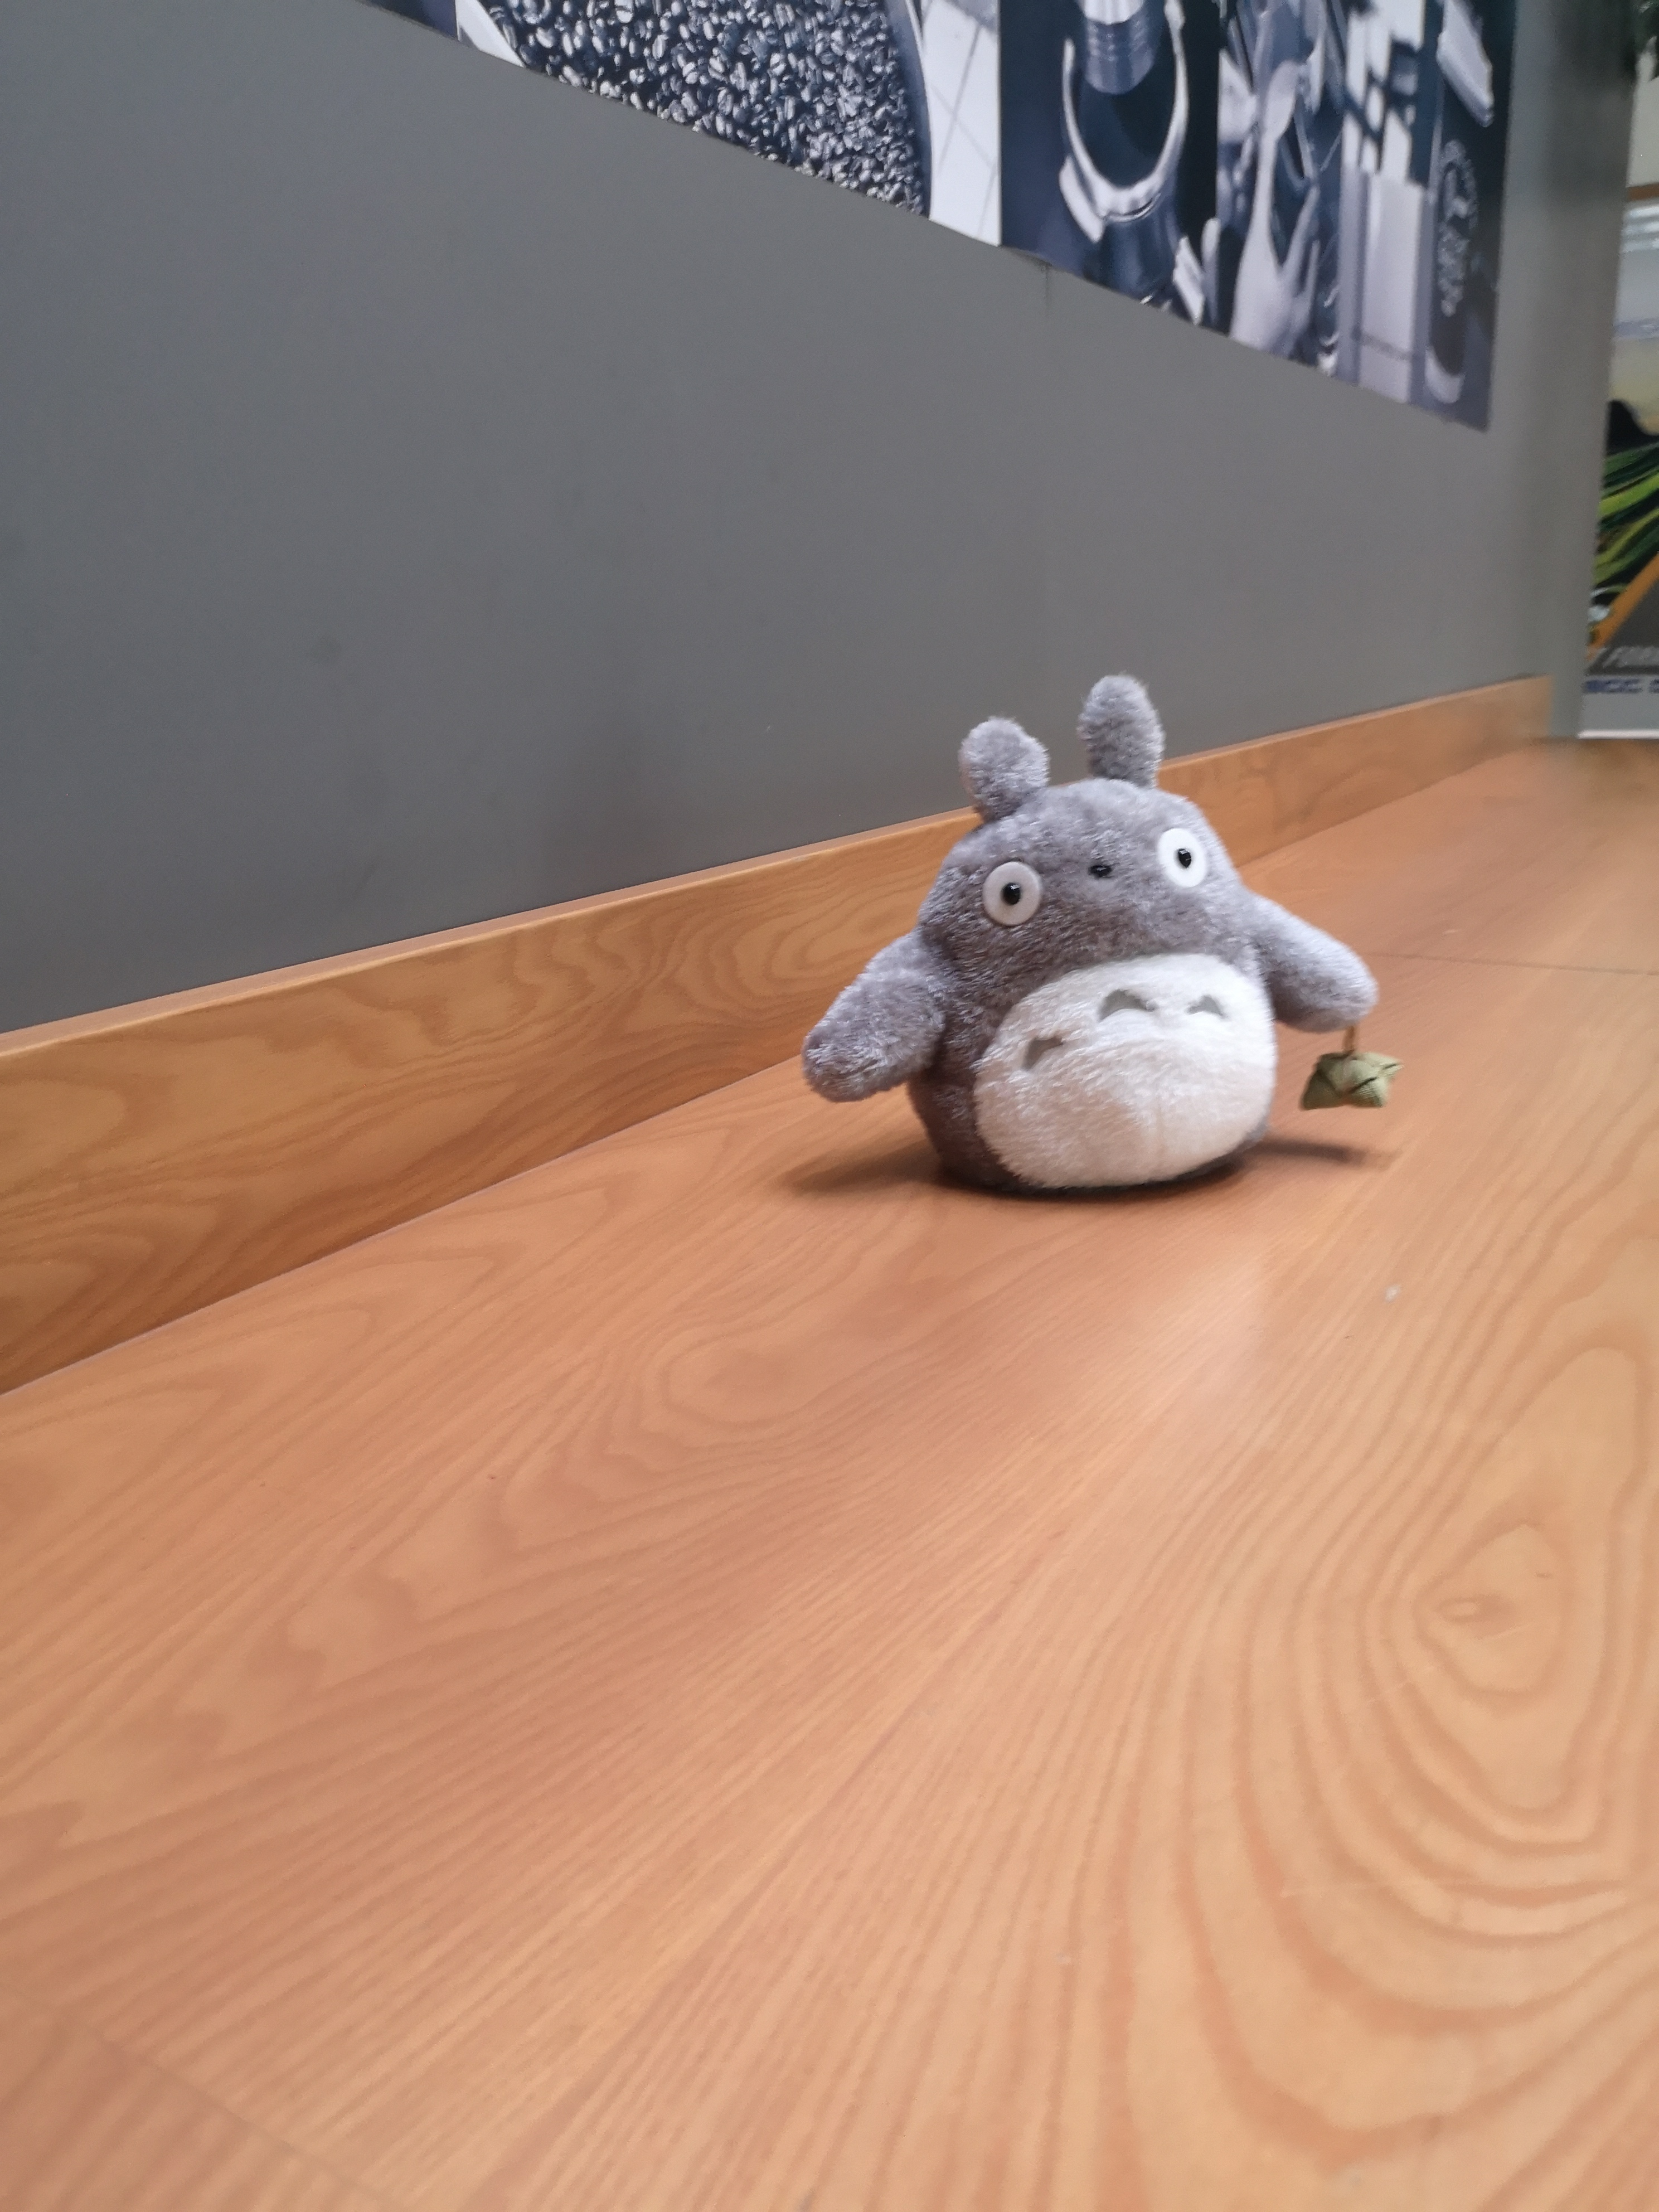totoro: (793, 662, 1412, 1223)
